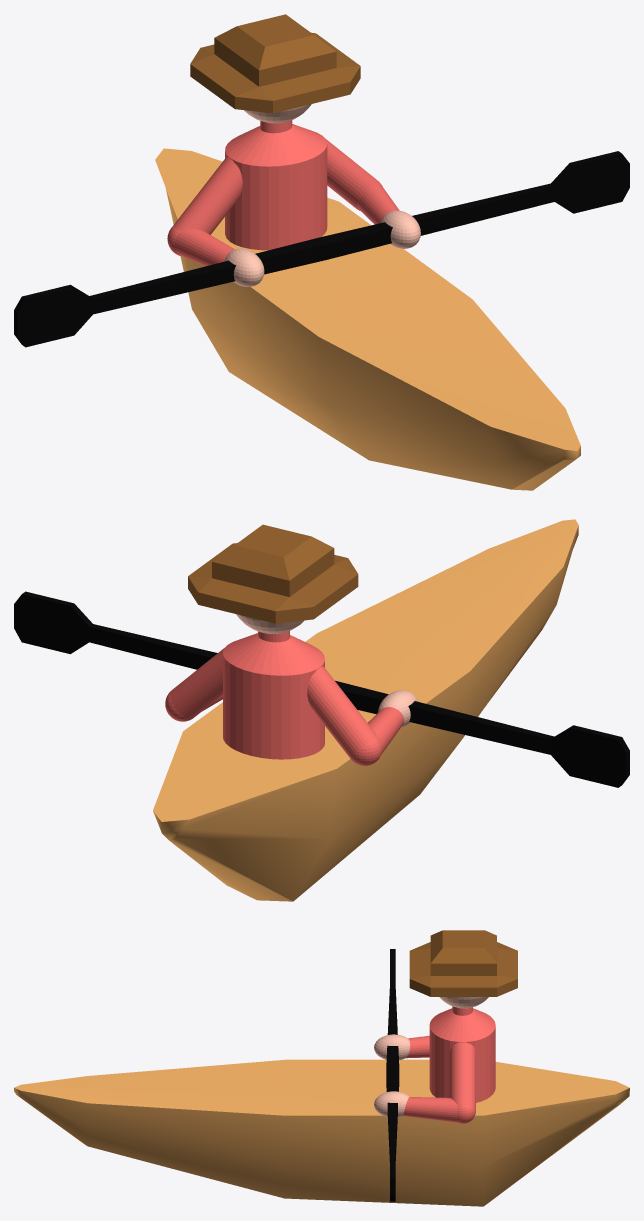
Rendered from kayaker.fbx.
3 renders of one model, top to bottom at view 1: azimuth 30°, elevation 25°; view 2: azimuth 150°, elevation 25°; view 3: azimuth 270°, elevation 25°, orthographic. The views are drawn at different scales.
Visible parts, largest first — view 1: Boat, Cube, Cube.001, torso neck, upper arm, lower arm, Sphere; view 2: Boat, Cube, Cube.001, torso neck, upper arm, lower arm, elbow, Sphere, head; view 3: Boat, Cube.001, torso neck, Cube, lower arm, upper arm, Sphere, head.
Boxes of the visible parts, left/top/right/bottom form: Boat: left=155, top=148, right=580, bottom=490; Cube: left=14, top=151, right=629, bottom=347; Cube.001: left=190, top=14, right=360, bottom=113; torso neck: left=225, top=120, right=327, bottom=250; upper arm: left=173, top=139, right=378, bottom=234; lower arm: left=174, top=183, right=399, bottom=266; Sphere: left=224, top=210, right=420, bottom=286; Boat: left=153, top=519, right=578, bottom=901; Cube: left=14, top=591, right=629, bottom=787; Cube.001: left=188, top=524, right=358, bottom=623; torso neck: left=223, top=631, right=324, bottom=759; upper arm: left=170, top=648, right=376, bottom=756; lower arm: left=202, top=695, right=403, bottom=754; elbow: left=165, top=690, right=382, bottom=765; Sphere: left=378, top=690, right=417, bottom=727; head: left=236, top=614, right=304, bottom=633; Boat: left=14, top=1059, right=629, bottom=1206; Cube.001: left=409, top=930, right=517, bottom=996; torso neck: left=429, top=1006, right=495, bottom=1102; Cube: left=386, top=949, right=399, bottom=1201; lower arm: left=403, top=1035, right=457, bottom=1122; upper arm: left=449, top=1042, right=475, bottom=1107; Sphere: left=374, top=1034, right=410, bottom=1117; head: left=439, top=997, right=488, bottom=1008.
Bounding box in the file's own units: 796 × 432 × 931.
